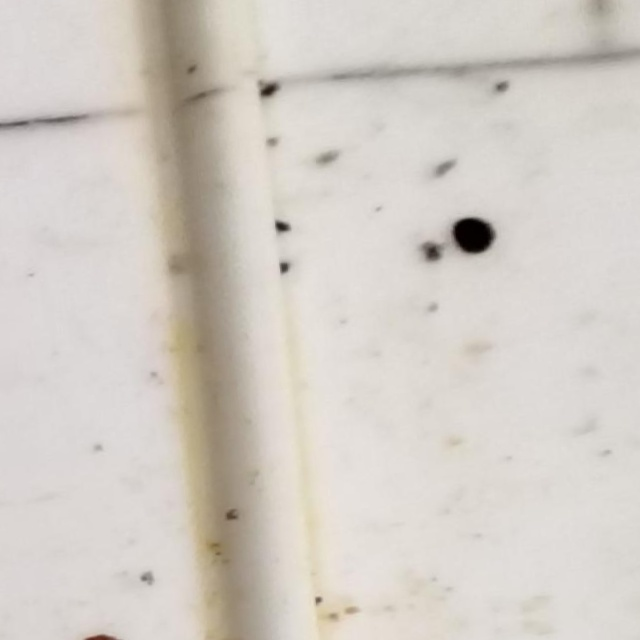varroa: (452, 214, 498, 259)
